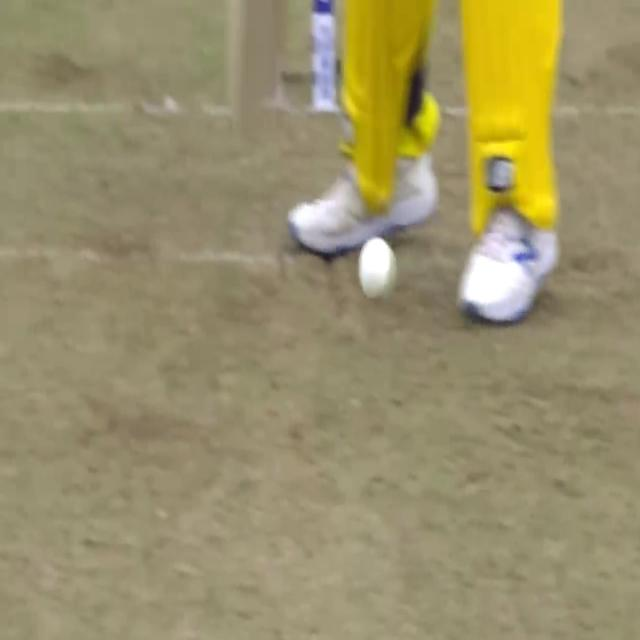ball: (349, 233, 409, 306)
